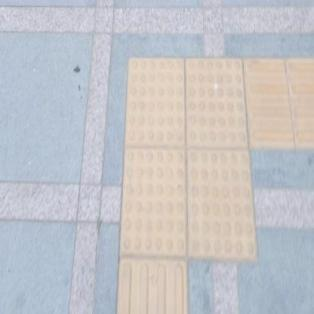Podoctatil: (101, 36, 270, 286), (252, 60, 314, 157), (111, 265, 189, 314)
